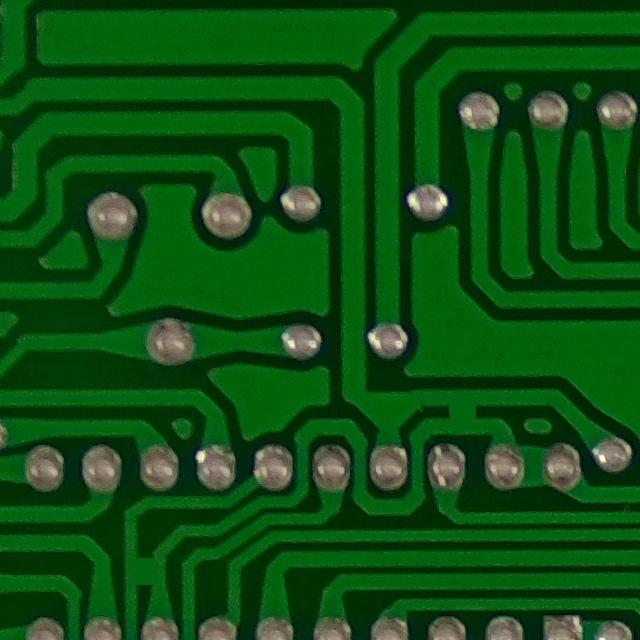short: (430, 380, 492, 435), (119, 545, 177, 596)
